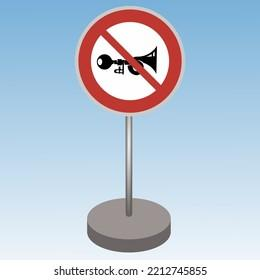Horn Prohibited: (57, 0, 186, 122)
